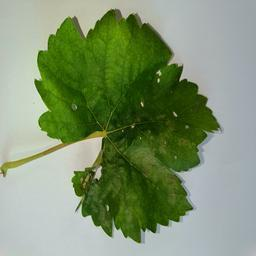Powdery-Mildew: (142, 146, 177, 198), (106, 25, 136, 60), (119, 197, 145, 228), (174, 127, 199, 157), (126, 152, 142, 168)
